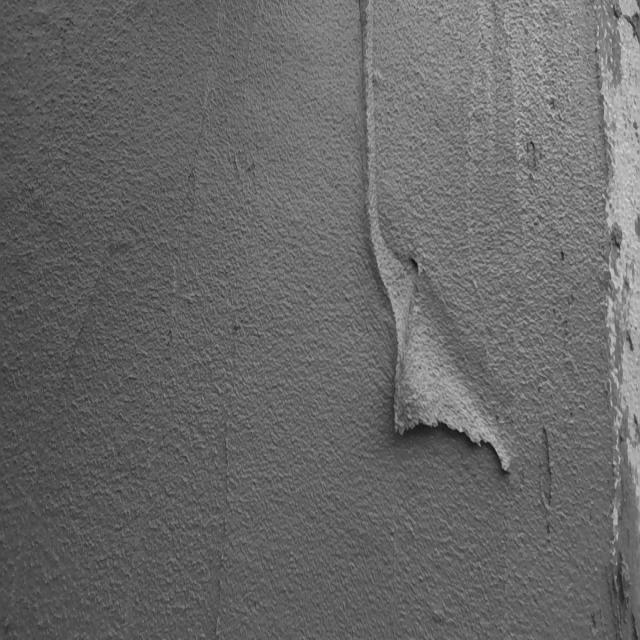trowels marks: (5, 258, 99, 635), (358, 0, 393, 348)
